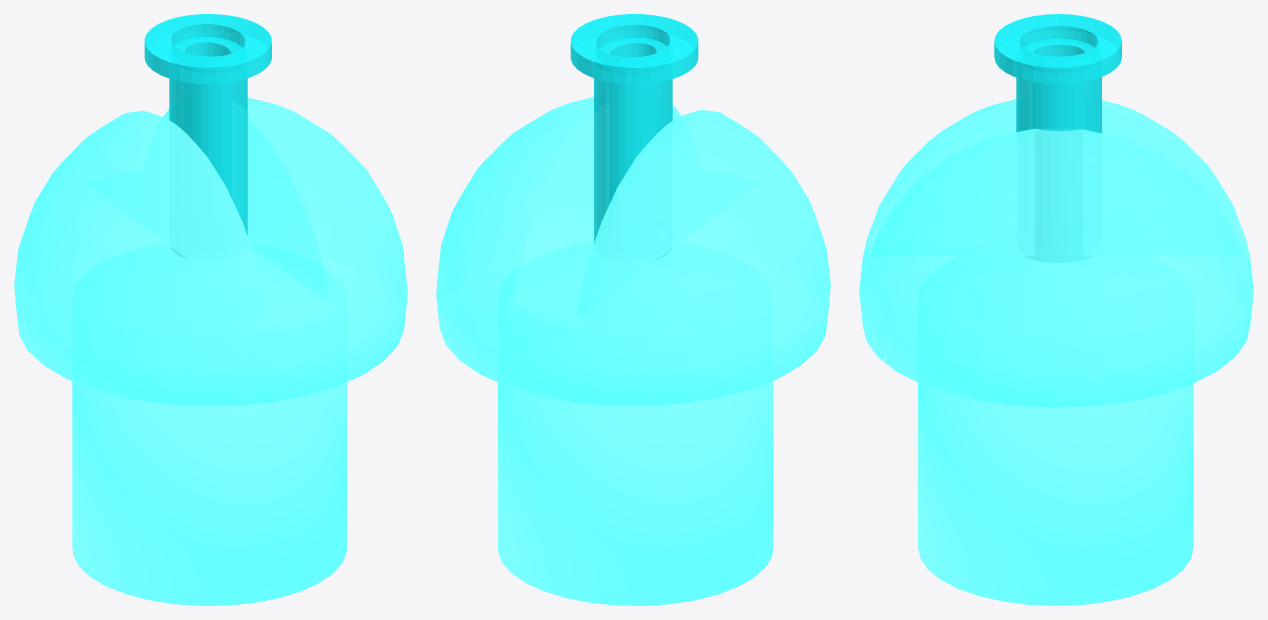
Rendered from ExportedBlenderFBXFile.fbx.
The picture shows the model from 3 angles, left to right: view 1: azimuth 30°, elevation 25°; view 2: azimuth 150°, elevation 25°; view 3: azimuth 270°, elevation 25°; orthographic projection.
Parts seen in each view (by area): view 1: Cylinder, Cylinder_003; view 2: Cylinder, Cylinder_003; view 3: Cylinder, Cylinder_003.
Part boxes in pixels (x1,y1,x2,y2): Cylinder: (14,97,407,605); Cylinder_003: (144,14,271,259); Cylinder: (436,97,830,605); Cylinder_003: (570,14,698,260); Cylinder: (859,99,1253,605); Cylinder_003: (994,14,1121,262).
Bounding box in the file's own units: 6.93 × 9.82 × 6.93.
